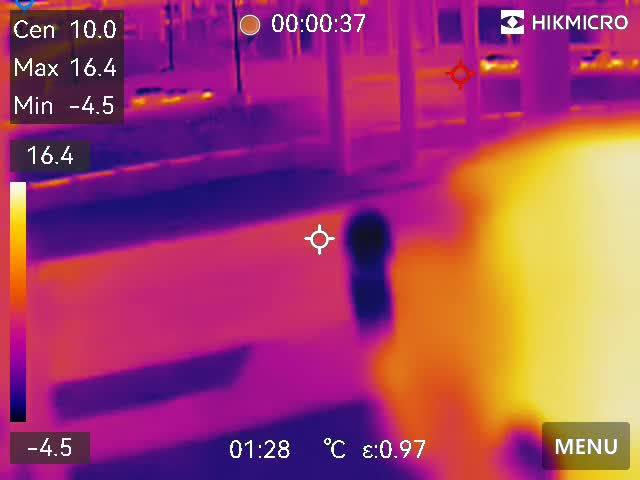vehicle: (123, 85, 170, 107), (478, 53, 519, 76), (163, 85, 219, 100)
